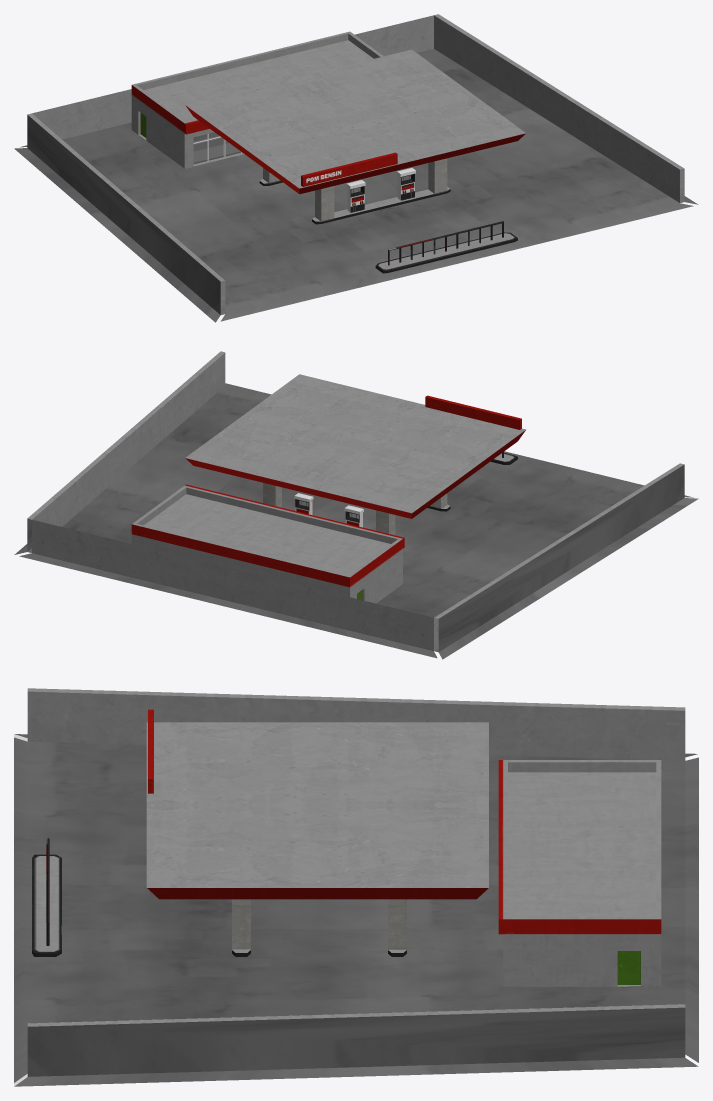
Rendered from building_SPBU.fbx.
The picture shows the model from 3 angles, top to bottom: view 1: azimuth 30°, elevation 25°; view 2: azimuth 150°, elevation 25°; view 3: azimuth 270°, elevation 25°; orthographic projection. The views are drawn at different scales.
Visible parts, largest first — view 1: Cube.003; view 2: Cube.003; view 3: Cube.003.
Part boxes in pixels (x1=…): Cube.003: x1=14, y1=14, x2=698, y2=322; Cube.003: x1=14, y1=351, x2=698, y2=659; Cube.003: x1=14, y1=688, x2=698, y2=1086.
Size of the model in its own units: 3694 by 601 by 3032.
Materials: 3 (3 with a texture image).
